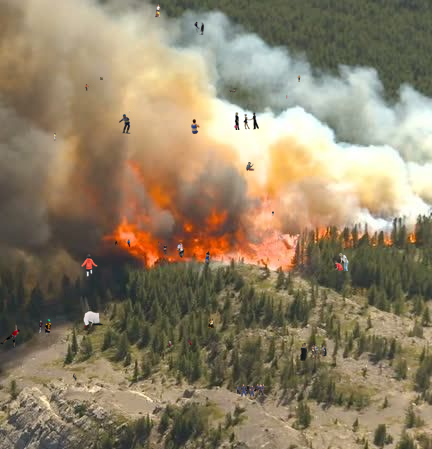Human: (83, 311, 109, 331), (0, 324, 21, 348), (300, 343, 327, 361), (234, 112, 259, 130), (81, 254, 98, 277), (163, 242, 185, 258), (237, 384, 264, 397), (330, 253, 349, 271), (155, 4, 174, 19), (168, 338, 196, 348), (38, 319, 52, 338), (118, 114, 131, 134), (191, 19, 204, 35), (115, 239, 130, 248), (191, 119, 200, 134), (208, 318, 219, 328), (246, 162, 255, 171), (205, 251, 210, 265), (73, 373, 77, 381), (297, 75, 301, 82), (85, 84, 89, 91), (229, 89, 236, 93), (54, 133, 56, 141), (158, 241, 162, 245), (272, 211, 274, 216), (286, 95, 288, 100), (100, 77, 103, 80), (424, 399, 426, 403), (65, 293, 66, 297), (278, 257, 279, 261), (299, 181, 300, 185), (129, 110, 130, 113)
